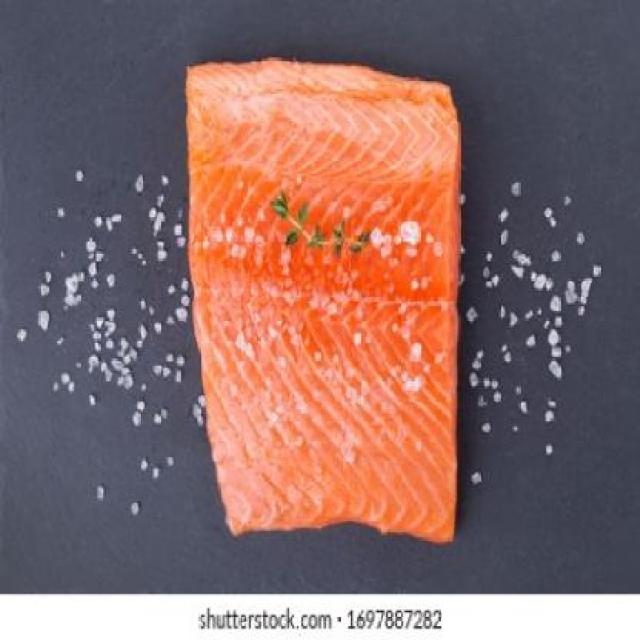salmon: (160, 39, 492, 546)
